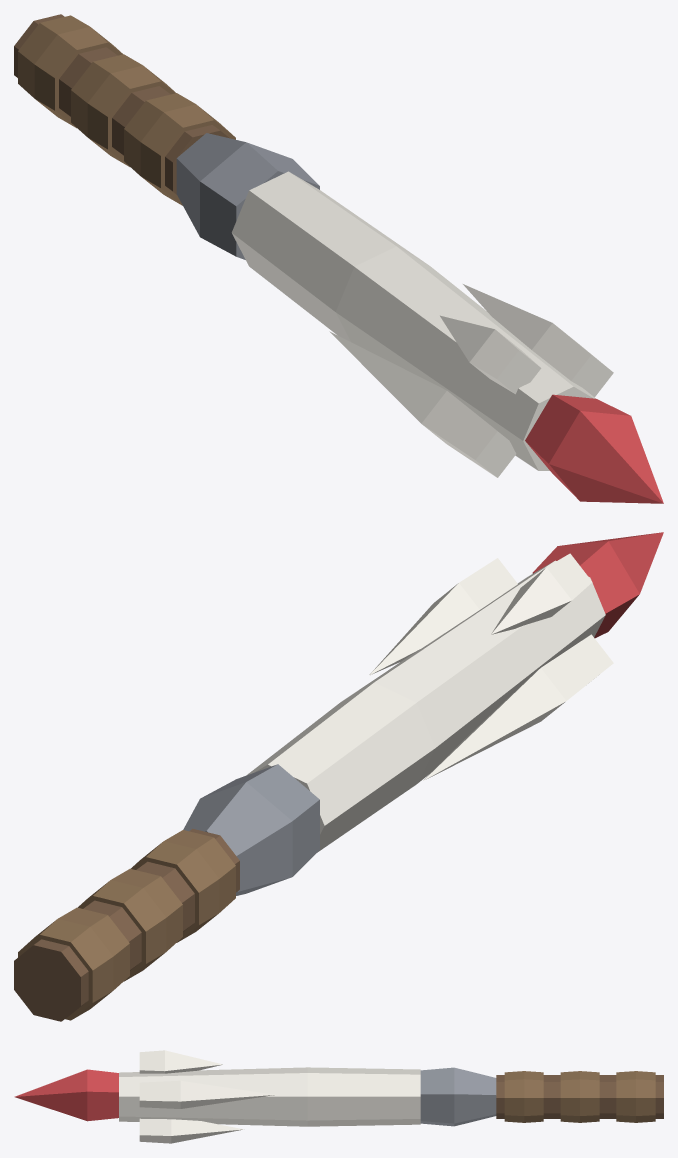
File: tallowwand.glb
The picture shows the model from 3 angles, top to bottom: view 1: azimuth 30°, elevation 25°; view 2: azimuth 150°, elevation 25°; view 3: azimuth 270°, elevation 25°; orthographic projection. The views are drawn at different scales.
Parts seen in each view (by area): view 1: tallowwand; view 2: tallowwand; view 3: tallowwand.
Part boxes in pixels (x1,y1,x2,y2): tallowwand: (14, 14, 663, 503); tallowwand: (14, 532, 663, 1021); tallowwand: (14, 1050, 663, 1143).
Bounding box in the file's own units: 0.0843 × 0.0843 × 0.62.
